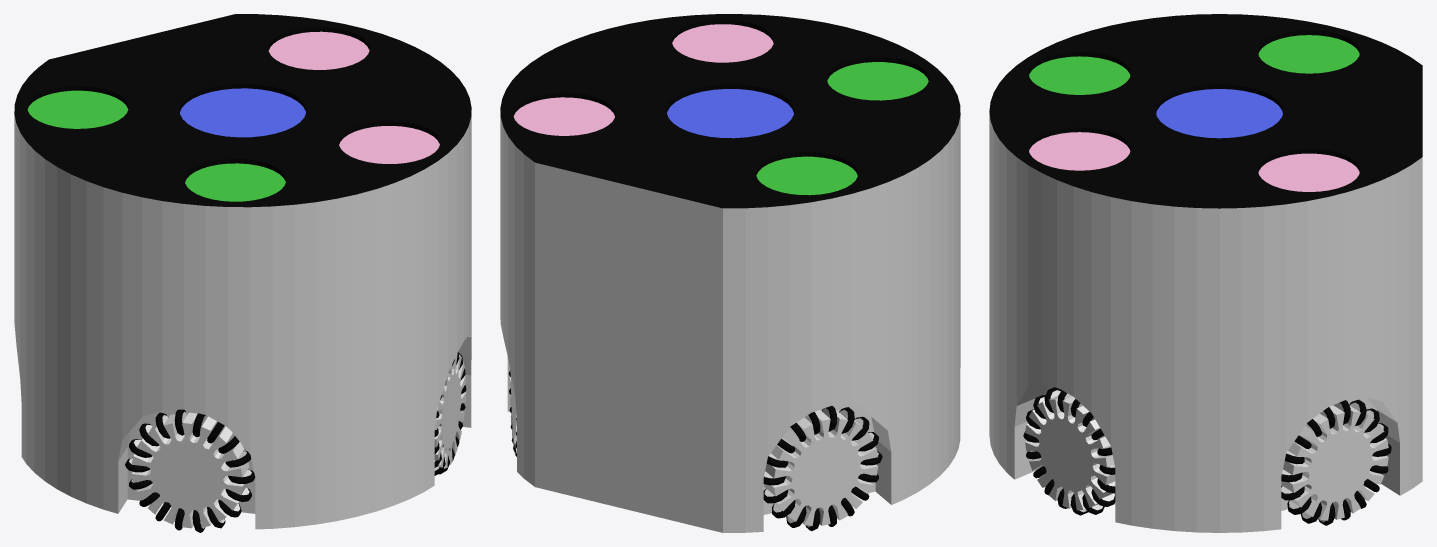
File: generic.glb
The picture shows the model from 3 angles, left to right: view 1: azimuth 30°, elevation 25°; view 2: azimuth 150°, elevation 25°; view 3: azimuth 270°, elevation 25°; orthographic projection.
Parts seen in each view (by area): view 1: Body, WheelBL, PatternMid, PatternFL, PatternBL, PatternBR, PatternFR, WheelBR; view 2: Body, WheelFL, PatternMid, PatternFR, PatternFL, PatternBR, PatternBL; view 3: Body, WheelFR, WheelBR, PatternMid, PatternFL, PatternBR, PatternBL, PatternFR.
Boxes of the visible parts, <box> form: Body: <box>14,14,471,529</box>; WheelBL: <box>125,409,255,532</box>; PatternMid: <box>180,88,305,137</box>; PatternFL: <box>27,90,128,128</box>; PatternBL: <box>185,163,285,201</box>; PatternBR: <box>339,126,439,163</box>; PatternFR: <box>268,31,369,69</box>; WheelBR: <box>434,352,466,475</box>; Body: <box>500,14,960,532</box>; WheelFL: <box>763,406,882,530</box>; PatternMid: <box>667,89,793,138</box>; PatternFR: <box>513,97,614,135</box>; PatternFL: <box>756,156,857,195</box>; PatternBR: <box>672,24,773,62</box>; PatternBL: <box>827,62,928,100</box>; Body: <box>989,14,1422,532</box>; WheelFR: <box>1281,399,1391,525</box>; WheelBR: <box>1023,387,1115,515</box>; PatternMid: <box>1156,89,1282,138</box>; PatternFL: <box>1258,35,1359,73</box>; PatternBR: <box>1029,132,1130,170</box>; PatternBL: <box>1029,56,1130,94</box>; PatternFR: <box>1258,153,1359,191</box>.
Bounding box in the file's own units: 0.18 × 0.1461 × 0.1694.
